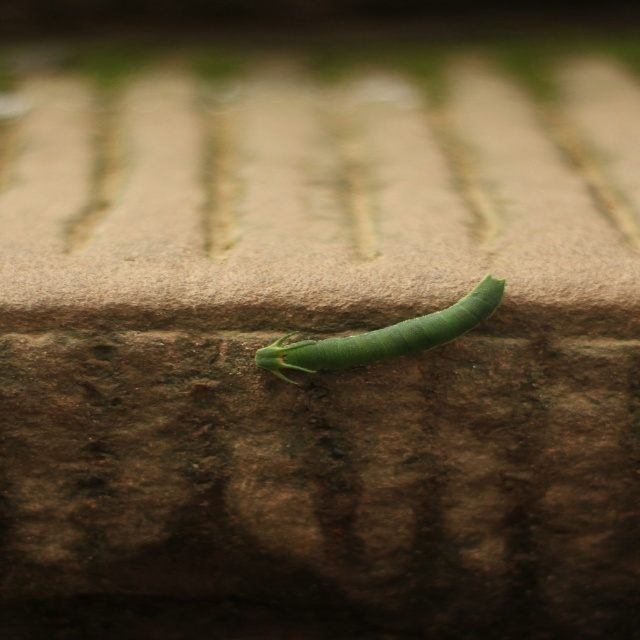Caterpillar: (251, 271, 510, 381)
